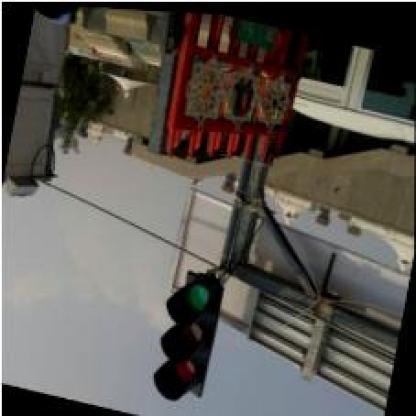green: (147, 261, 222, 410)
